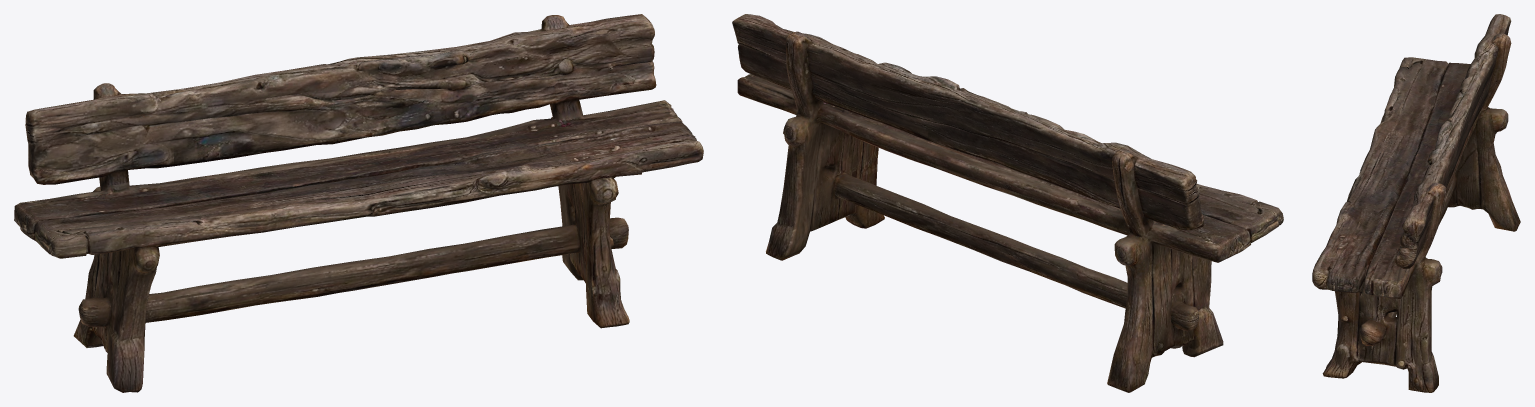
Rendered from bench.glb.
3 renders of one model, left to right at view 1: azimuth 30°, elevation 25°; view 2: azimuth 150°, elevation 25°; view 3: azimuth 270°, elevation 25°, orthographic. The views are drawn at different scales.
Parts seen in each view (by area): view 1: tripo_node_0ea287b3-5ecb-4079-8388-05289bf86892; view 2: tripo_node_0ea287b3-5ecb-4079-8388-05289bf86892; view 3: tripo_node_0ea287b3-5ecb-4079-8388-05289bf86892.
Part boxes in pixels (x1,y1,x2,y2): tripo_node_0ea287b3-5ecb-4079-8388-05289bf86892: (14, 14, 703, 392); tripo_node_0ea287b3-5ecb-4079-8388-05289bf86892: (732, 14, 1283, 392); tripo_node_0ea287b3-5ecb-4079-8388-05289bf86892: (1312, 14, 1520, 392).
Bounding box in the file's own units: 0.9782 × 0.3924 × 0.3809.
1 material, 1 textured.
